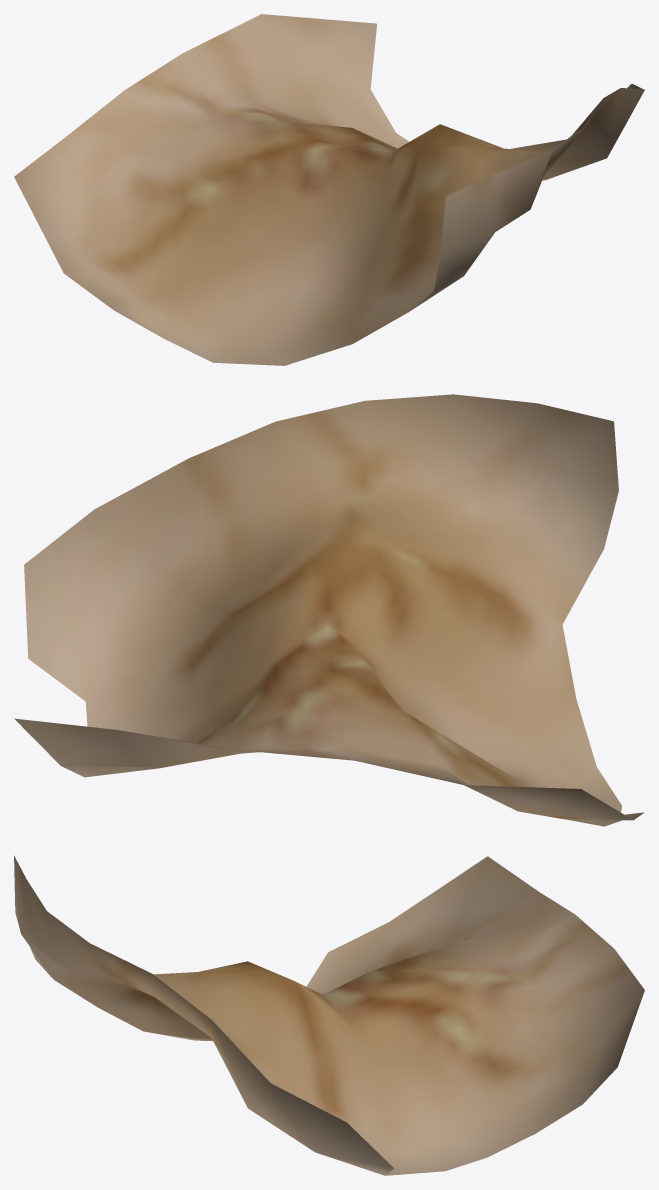
File: tooth-11.glb
The picture shows the model from 3 angles, top to bottom: view 1: azimuth 30°, elevation 25°; view 2: azimuth 150°, elevation 25°; view 3: azimuth 270°, elevation 25°; orthographic projection. The views are drawn at different scales.
Visible parts, largest first — view 1: teeth_1; view 2: teeth_1; view 3: teeth_1.
Part boxes in pixels (box(x1,y1,x2,y2)): teeth_1: box(14, 14, 644, 365); teeth_1: box(14, 394, 644, 826); teeth_1: box(14, 855, 644, 1175).
Size of the model in its own units: 0.019 by 0.00745 by 0.0184.
Materials: 1 (1 with a texture image).
